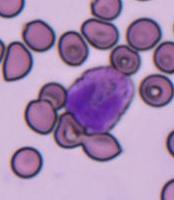E: (65, 66, 135, 134)
